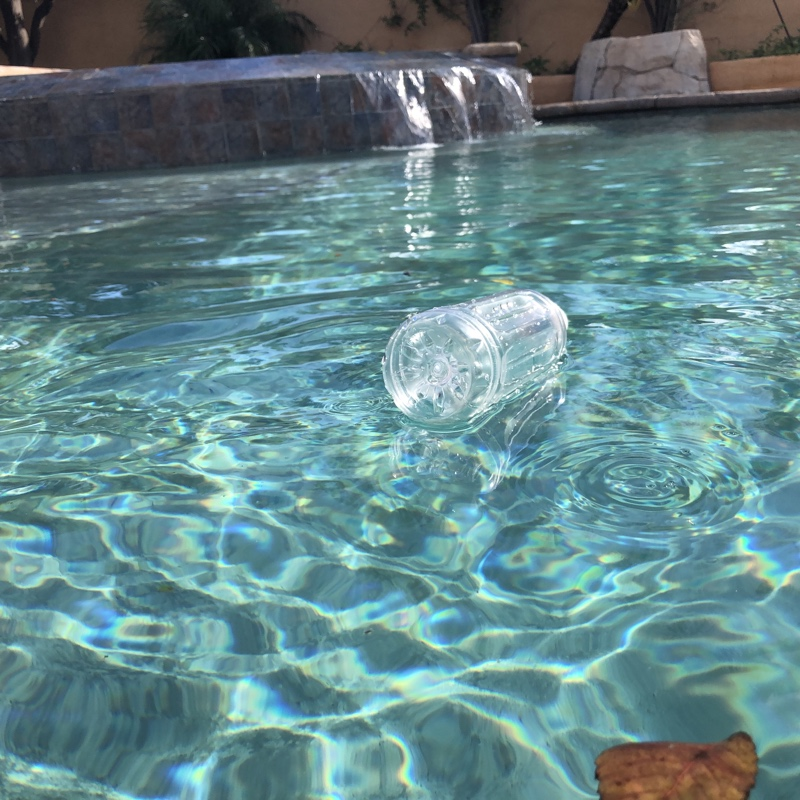Plastic Bottle: (371, 283, 575, 436)
